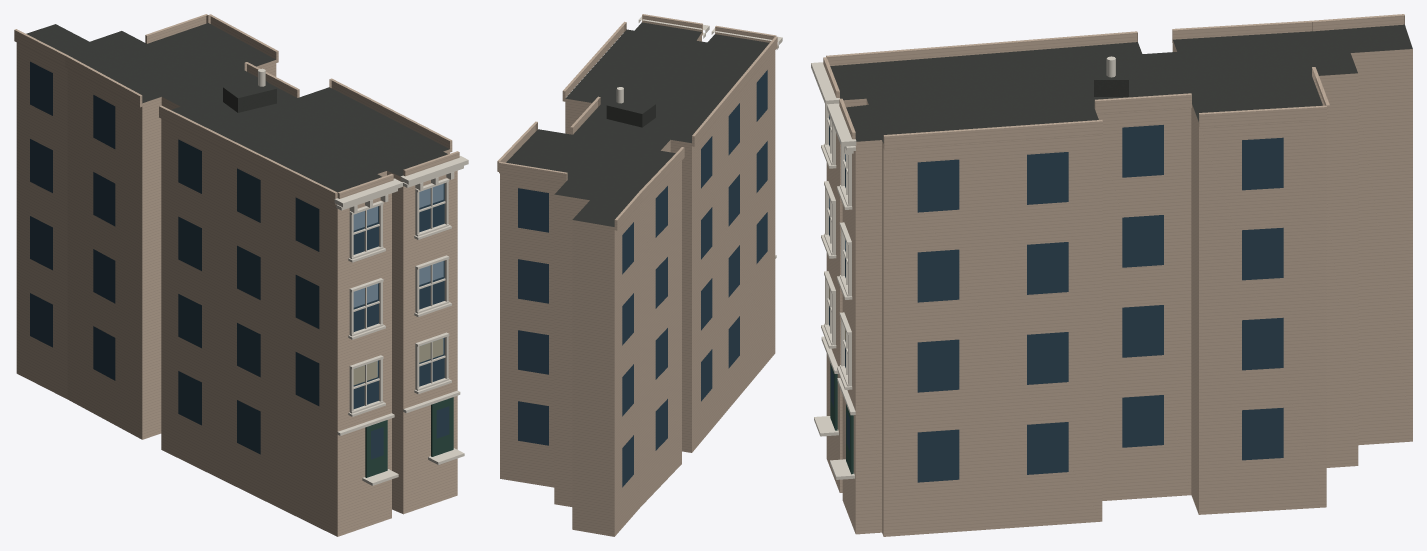
3 renders of one model, left to right at view 1: azimuth 30°, elevation 25°; view 2: azimuth 150°, elevation 25°; view 3: azimuth 270°, elevation 25°, orthographic. The views are drawn at different scales.
Parts seen in each view (by area): view 1: Footprint 0 / surface 2, Footprint 0 / surface 1, Inset glazing, Cornices and window frames, Facade bay volumes, Storefronts and doors, Sky reflection panels, Interior blind variation, Inferred rooftop service enclosure / surface 5, Inferred rooftop service enclosure / surface 3; view 2: Footprint 0 / surface 2, Footprint 0 / surface 1, Inset glazing, Facade bay volumes, Inferred rooftop service enclosure / surface 6, Inferred rooftop service enclosure / surface 3, Cornices and window frames; view 3: Footprint 0 / surface 2, Footprint 0 / surface 1, Inset glazing, Facade bay volumes, Cornices and window frames, Storefronts and doors.
Boxes of the visible parts, <box> form: Footprint 0 / surface 2: <box>16,42,457,536</box>; Footprint 0 / surface 1: <box>26,23,449,192</box>; Inset glazing: <box>30,61,449,459</box>; Cornices and window frames: <box>334,156,468,485</box>; Facade bay volumes: <box>14,14,459,204</box>; Storefronts and doors: <box>365,397,453,477</box>; Sky reflection panels: <box>353,183,443,376</box>; Interior blind variation: <box>353,338,443,385</box>; Inferred rooftop service enclosure / surface 5: <box>238,89,276,112</box>; Inferred rooftop service enclosure / surface 3: <box>223,79,276,97</box>; Footprint 0 / surface 2: <box>500,33,775,536</box>; Footprint 0 / surface 1: <box>506,22,769,226</box>; Inset glazing: <box>518,70,767,487</box>; Facade bay volumes: <box>497,14,777,230</box>; Inferred rooftop service enclosure / surface 6: <box>606,105,642,127</box>; Inferred rooftop service enclosure / surface 3: <box>607,96,655,113</box>; Cornices and window frames: <box>638,16,782,258</box>; Footprint 0 / surface 2: <box>826,40,1412,536</box>; Footprint 0 / surface 1: <box>830,24,1412,143</box>; Inset glazing: <box>829,117,1283,482</box>; Facade bay volumes: <box>823,14,1404,149</box>; Cornices and window frames: <box>811,62,856,479</box>; Storefronts and doors: <box>830,363,853,474</box>.
Bounding box in the file's own units: 9.95 × 16.16 × 20.65.
